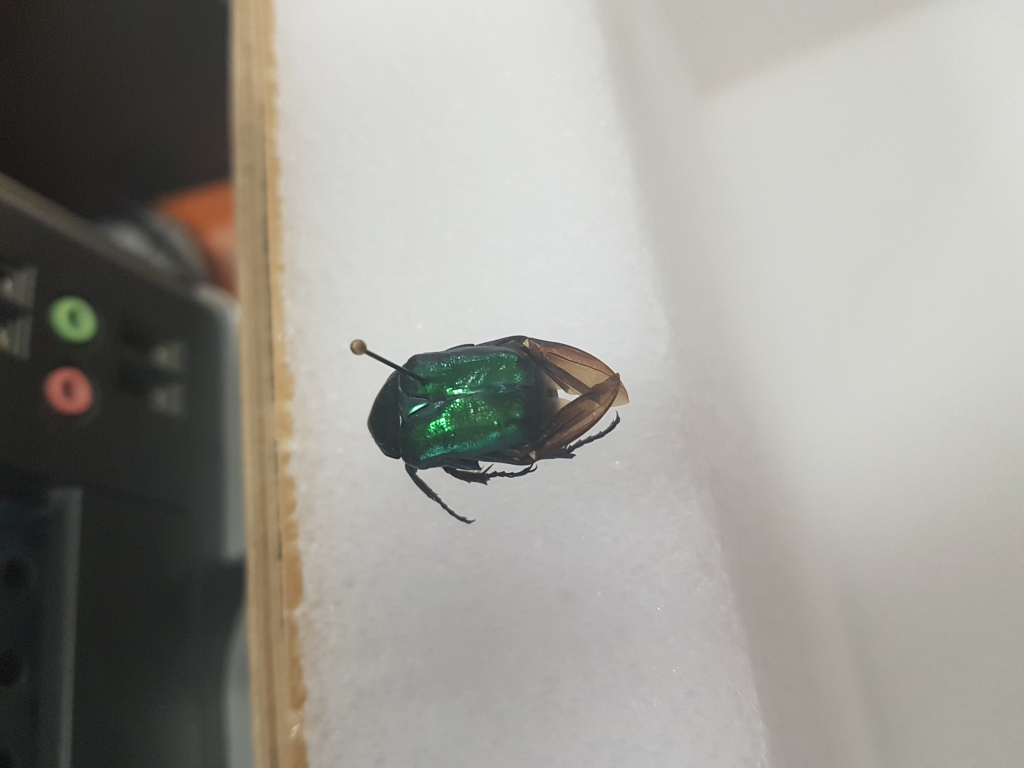Protaetia_angustata_angustata: (346, 321, 643, 517)
